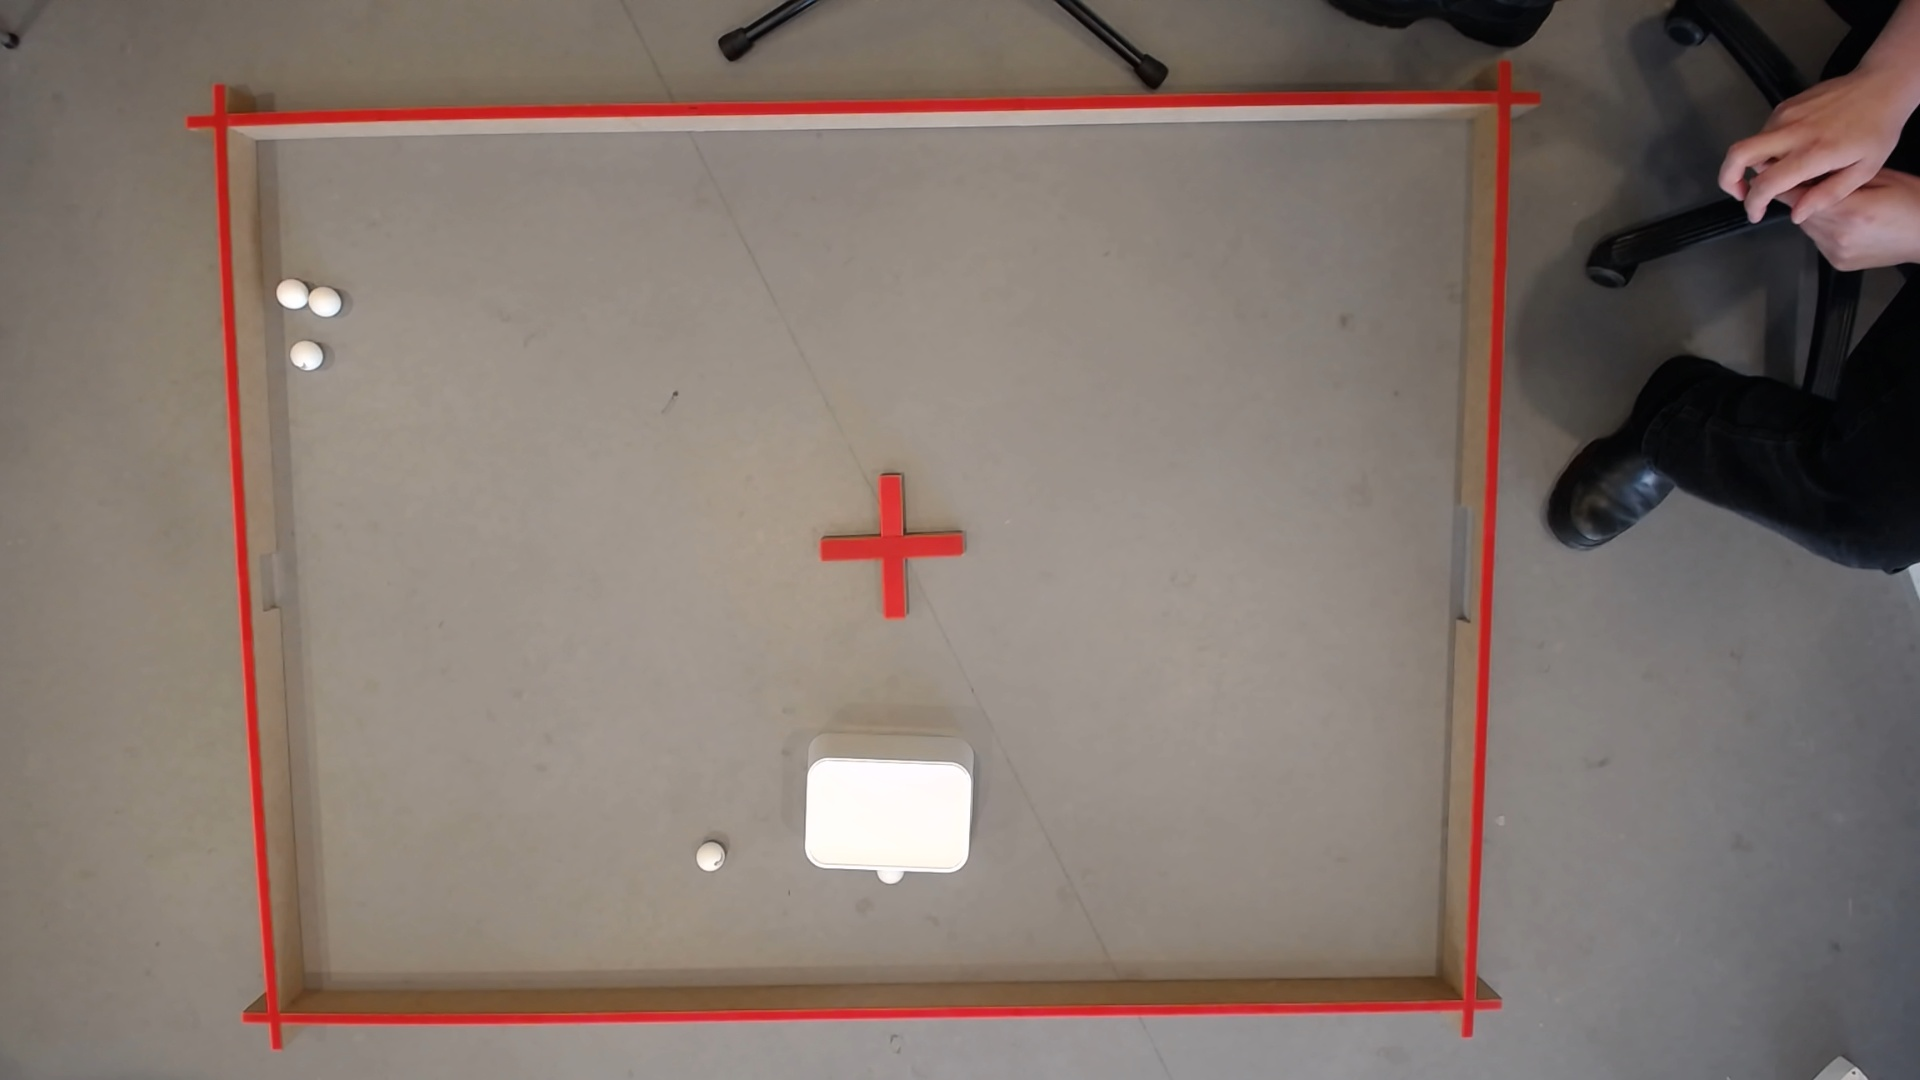balls: (273, 277, 309, 314), (303, 286, 342, 320), (287, 342, 324, 373)
car: (696, 852, 720, 870)
